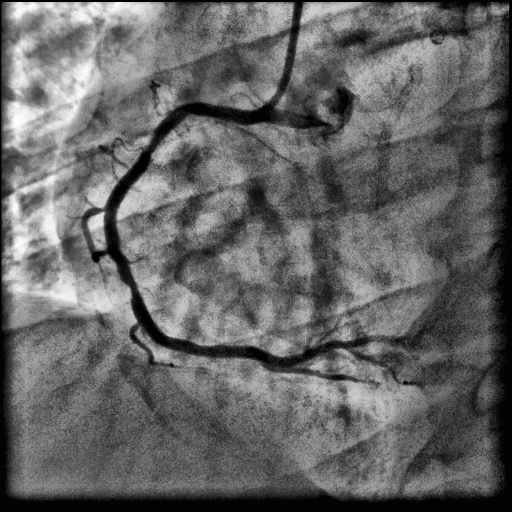pborca: (285, 336, 412, 367)
pda: (262, 363, 381, 386)
rca: (104, 102, 290, 368)
